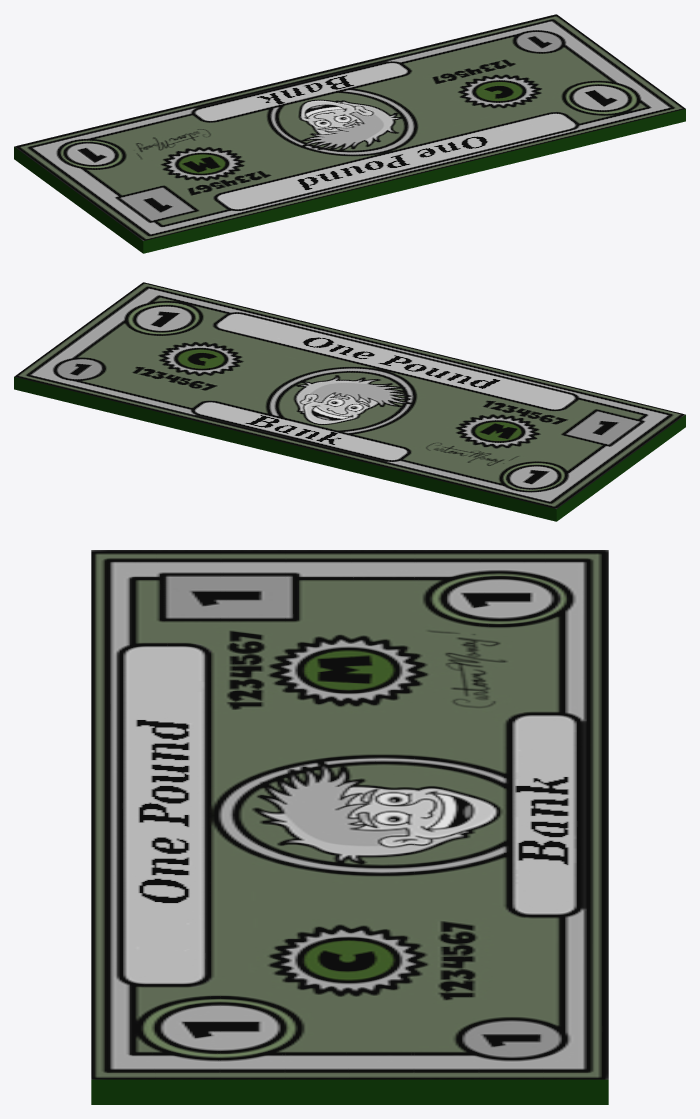
The model's file is Note1Pound.fbx.
3 renders of one model, top to bottom at view 1: azimuth 30°, elevation 25°; view 2: azimuth 150°, elevation 25°; view 3: azimuth 270°, elevation 25°, orthographic. The views are drawn at different scales.
Parts seen in each view (by area): view 1: Cube; view 2: Cube; view 3: Cube.
Boxes of the visible parts, x1=… form: Cube: x1=14, y1=14, x2=685, y2=253; Cube: x1=14, y1=282, x2=685, y2=521; Cube: x1=91, y1=550, x2=608, y2=1104.
Size of the model in its own units: 10.26 by 0.2274 by 4.24.
